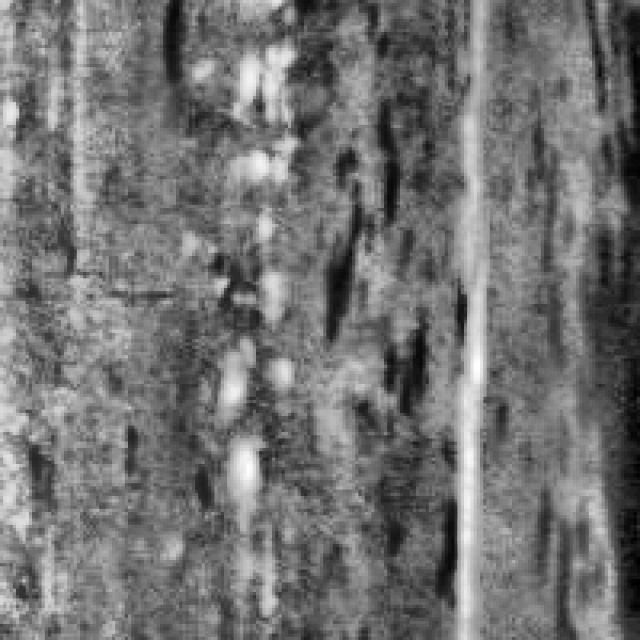Inclusion: (211, 35, 298, 496), (445, 15, 493, 630)
Patches: (544, 106, 637, 636), (310, 106, 410, 340)
